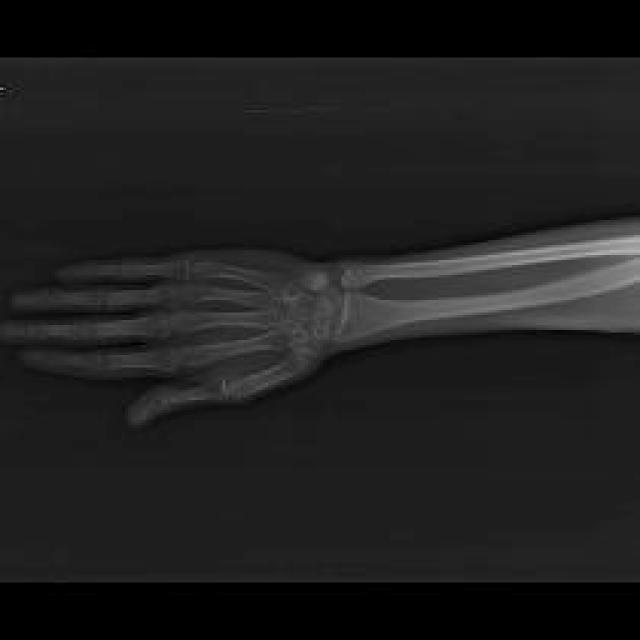normal: (5, 238, 640, 426)
